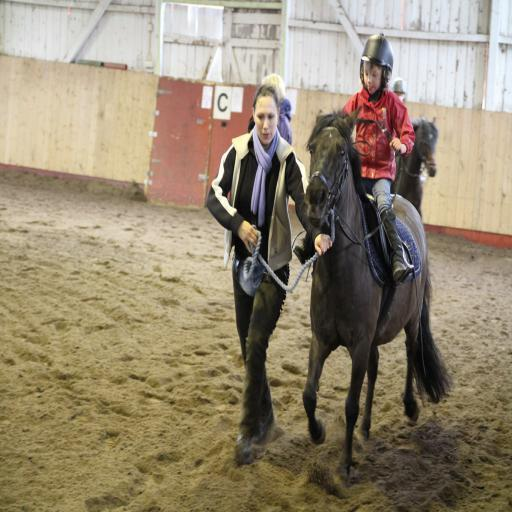horse: (304, 104, 454, 488), (390, 115, 439, 221)
